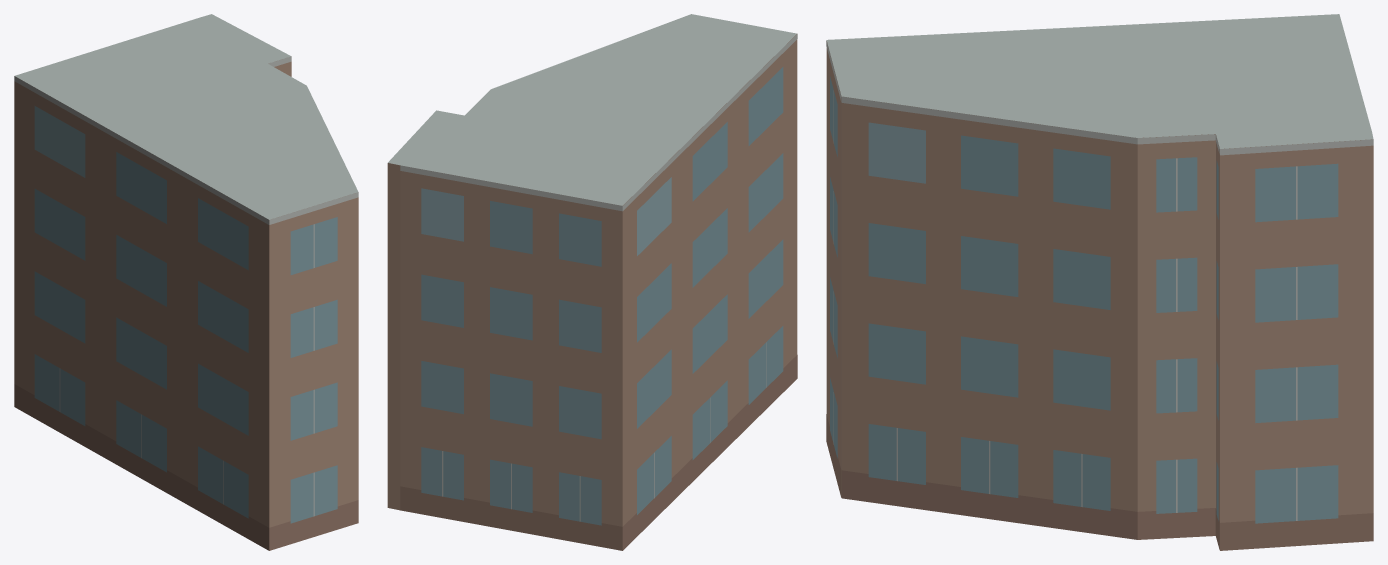
File: survey-upis-32922031.glb
The picture shows the model from 3 angles, left to right: view 1: azimuth 30°, elevation 25°; view 2: azimuth 150°, elevation 25°; view 3: azimuth 270°, elevation 25°; orthographic projection. The views are drawn at different scales.
Visible parts, largest first — view 1: survey-upis-32922031.tmp; view 2: survey-upis-32922031.tmp; view 3: survey-upis-32922031.tmp.
Part boxes in pixels (left/top/right/bottom): survey-upis-32922031.tmp: left=14, top=14, right=358, bottom=550; survey-upis-32922031.tmp: left=387, top=14, right=797, bottom=550; survey-upis-32922031.tmp: left=826, top=14, right=1373, bottom=550.
Size of the model in its own units: 11.07 by 15.35 by 18.94.
